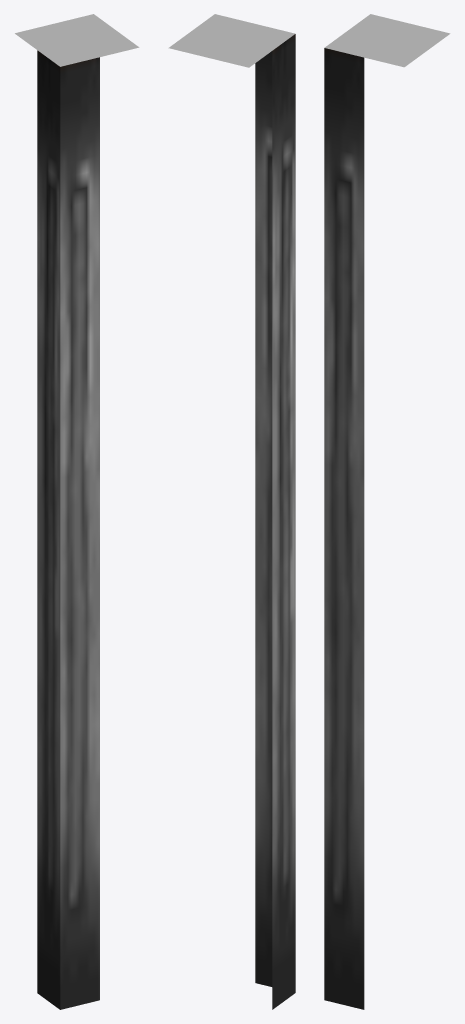
The model's file is W_I__Eckverschluß [Wellblech]_786.glb.
The picture shows the model from 3 angles, left to right: view 1: azimuth 30°, elevation 25°; view 2: azimuth 150°, elevation 25°; view 3: azimuth 330°, elevation 25°; orthographic projection.
Parts seen in each view (by area): view 1: pPlaneShape7, pPlaneShape11; view 2: pPlaneShape7, pPlaneShape11; view 3: pPlaneShape7, pPlaneShape11.
Part boxes in pixels (bbox=[...]): pPlaneShape7: bbox=[37, 50, 99, 1009]; pPlaneShape11: bbox=[15, 14, 139, 66]; pPlaneShape7: bbox=[255, 34, 295, 1009]; pPlaneShape11: bbox=[168, 14, 295, 67]; pPlaneShape7: bbox=[324, 48, 364, 1009]; pPlaneShape11: bbox=[324, 14, 450, 67].
Size of the model in its own units: 0.0307 by 0.3486 by 0.0307.
2 materials, 1 textured.
